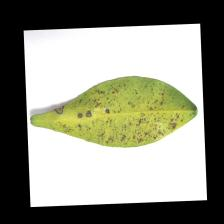canker: (88, 93, 162, 138)
